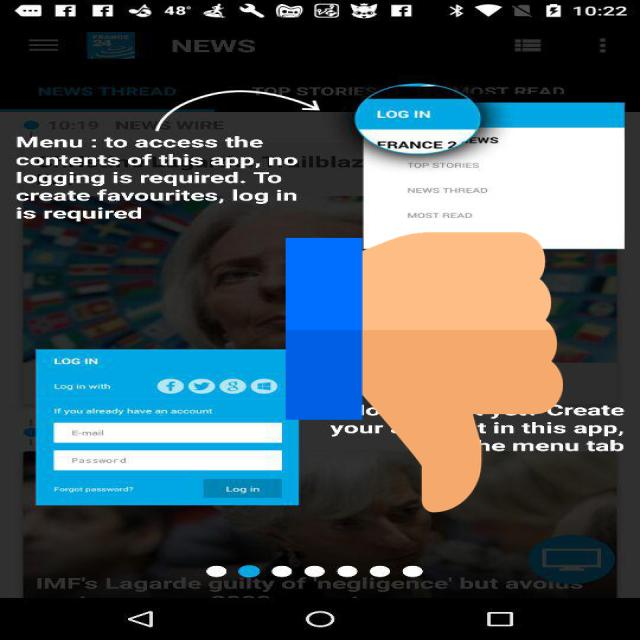obstruction: (286, 226, 563, 520)
